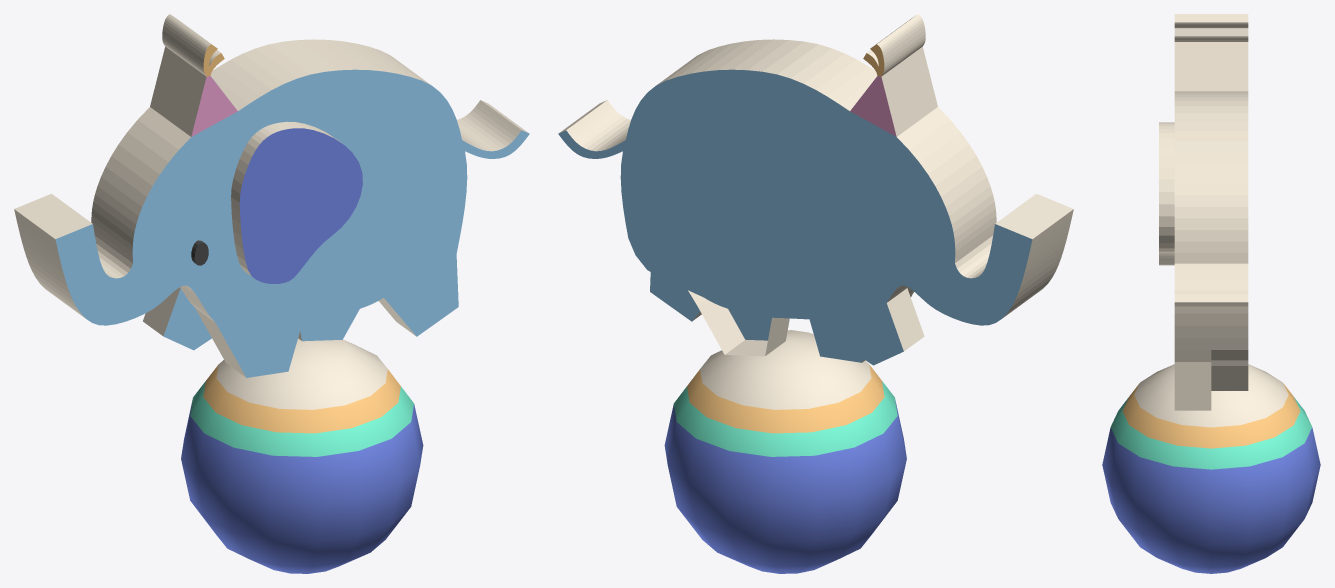
The model's file is Sculpture_Elephant_01.FBX.
3 views of the same model, side by side, from view 1: azimuth 30°, elevation 25°; view 2: azimuth 150°, elevation 25°; view 3: azimuth 270°, elevation 25° (orthographic). The views are drawn at different scales.
Visible parts, largest first — view 1: Sculpture_Elephant_01, Ball_01; view 2: Sculpture_Elephant_01, Ball_01; view 3: Ball_01, Sculpture_Elephant_01.
Boxes of the visible parts, bbox=[...] form: Sculpture_Elephant_01: bbox=[14, 14, 529, 377]; Ball_01: bbox=[181, 338, 423, 573]; Sculpture_Elephant_01: bbox=[558, 14, 1073, 365]; Ball_01: bbox=[664, 330, 906, 573]; Ball_01: bbox=[1102, 364, 1320, 573]; Sculpture_Elephant_01: bbox=[1159, 14, 1248, 410].
Bounding box in the file's own units: 5.38 × 6.08 × 2.4.
